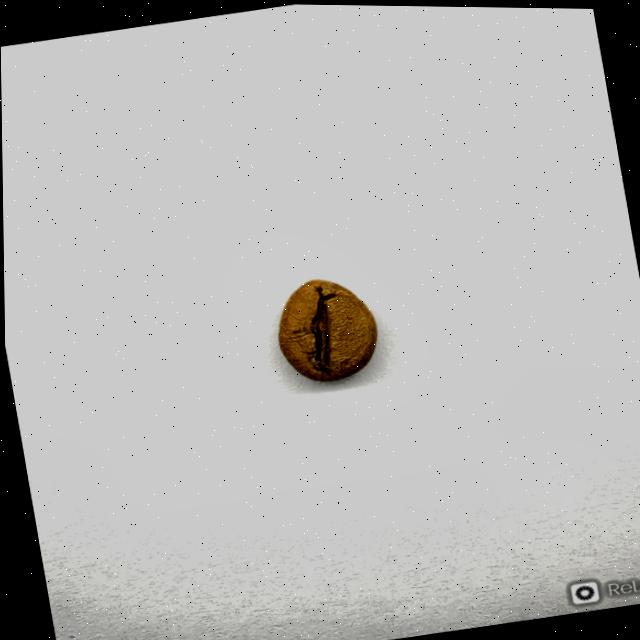Quaker: (267, 270, 384, 387)
